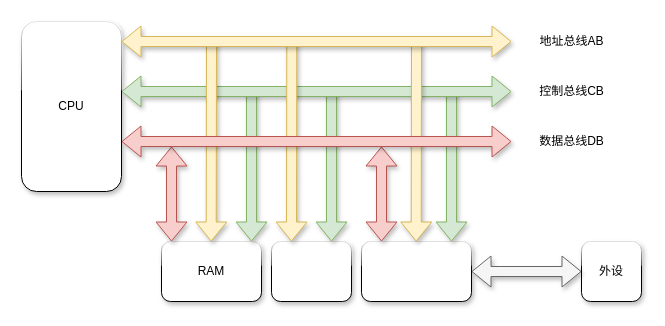
Image size: 665x326. Some labels were removed from this diagram. Each missing label, with the centre of its shape:
I/O接口: the point at 417,272
ROM: the point at 312,272
